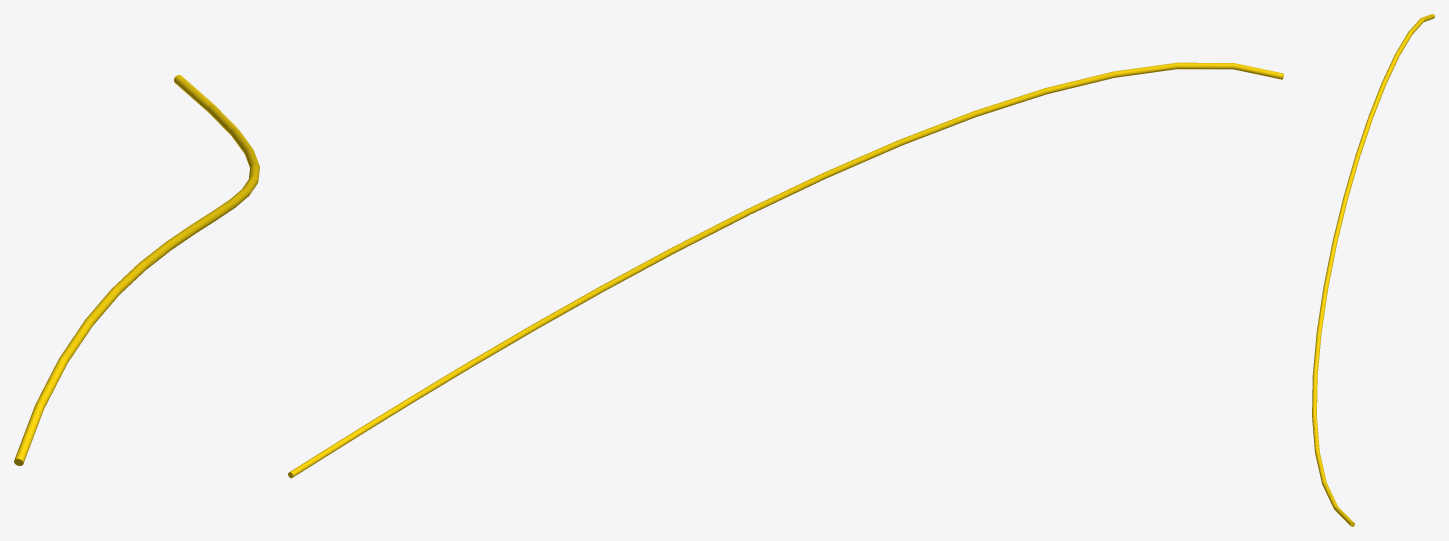
The model's file is Event_421278790_track_24.fbx.
The picture shows the model from 3 angles, left to right: view 1: azimuth 90°, elevation 25°; view 2: azimuth 210°, elevation 25°; view 3: azimuth 270°, elevation 25°; orthographic projection. The views are drawn at different scales.
Visible parts, largest first — view 1: Model; view 2: Model; view 3: Model.
Part boxes in pixels (left/top/right/bottom): Model: left=14, top=75, right=259, bottom=465; Model: left=288, top=62, right=1283, bottom=478; Model: left=1312, top=14, right=1434, bottom=526.
Bounding box in the file's own units: 6.74 × 1.61 × 0.9984.
